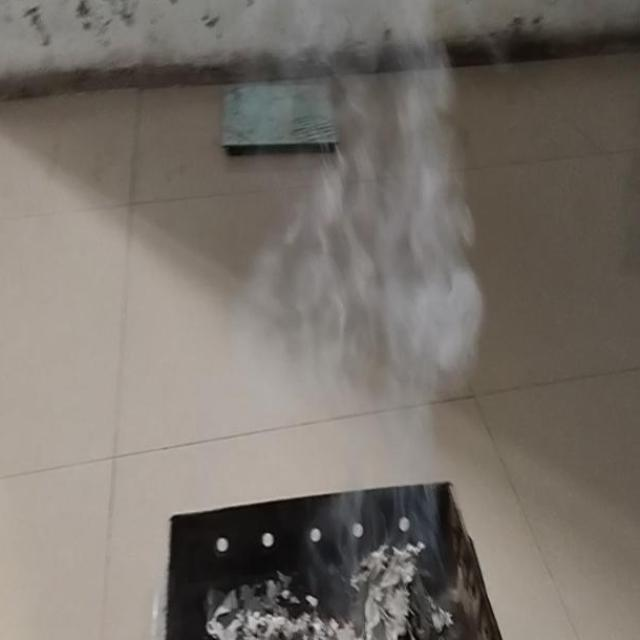fire: (347, 0, 481, 457)
